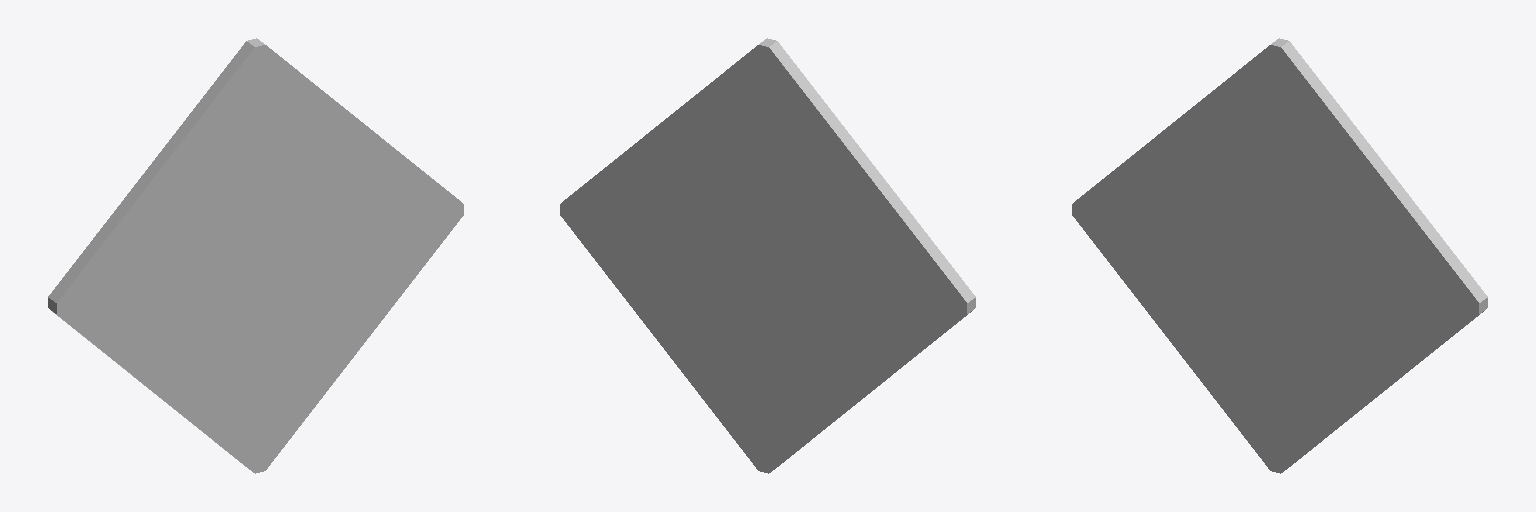
Rendered from schild vorrang.obj.
The picture shows the model from 3 angles: view 1: azimuth 30°, elevation 25°; view 2: azimuth 150°, elevation 25°; view 3: azimuth 330°, elevation 25°; orthographic projection.
Size of the model in its own units: 0.6186 by 0.6186 by 0.0224.